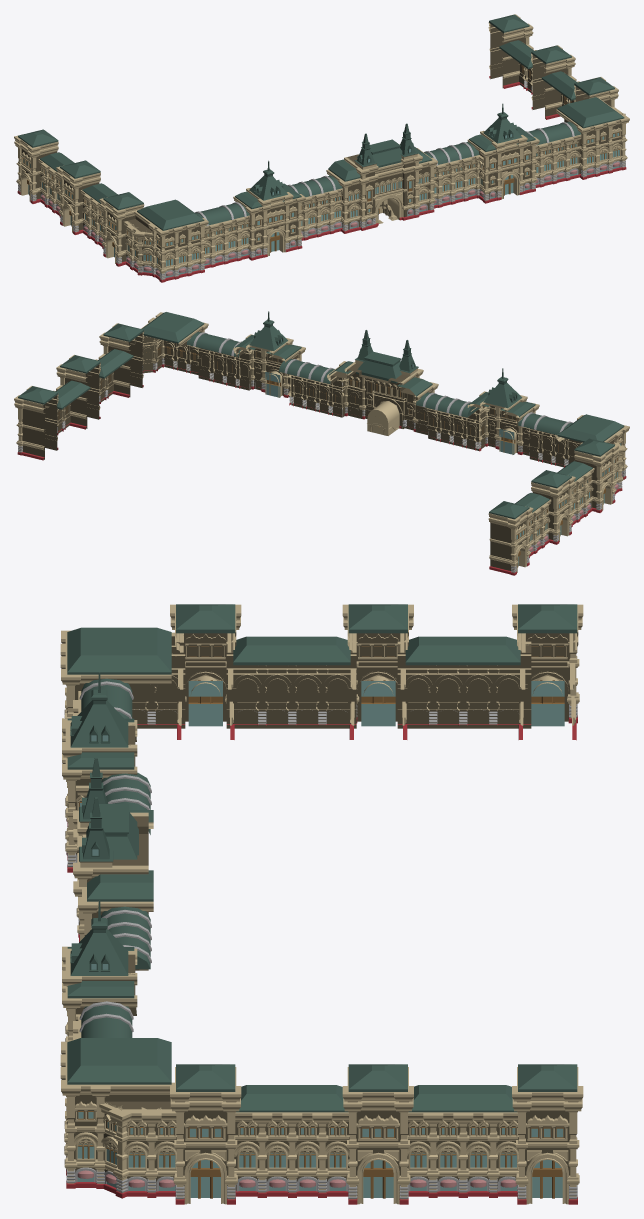
Rendered from SM_gum.fbx.
3 renders of one model, top to bottom at view 1: azimuth 30°, elevation 25°; view 2: azimuth 150°, elevation 25°; view 3: azimuth 270°, elevation 25°, orthographic. The views are drawn at different scales.
Parts seen in each view (by area): view 1: SM_gum; view 2: SM_gum; view 3: SM_gum.
Part boxes in pixels (<box>): SM_gum: <box>14,14,629,282</box>; SM_gum: <box>14,311,629,575</box>; SM_gum: <box>60,604,583,1204</box>.
Bounding box in the file's own units: 15110 × 2647 × 6816.
